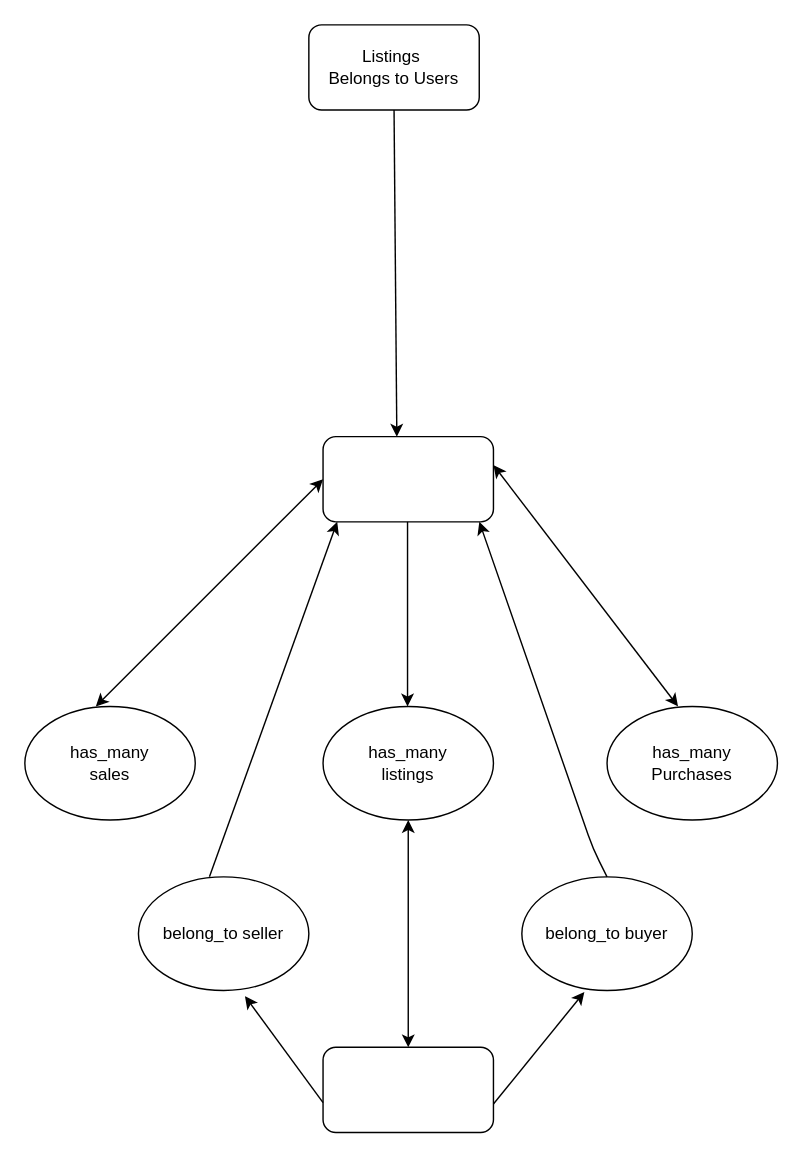
This 802x1157 diagram has some shape labels left out. Each missing label, with the centre of its shape:
Orders Belong_to listings: pixel 407 1089
Users: pixel 407 478
